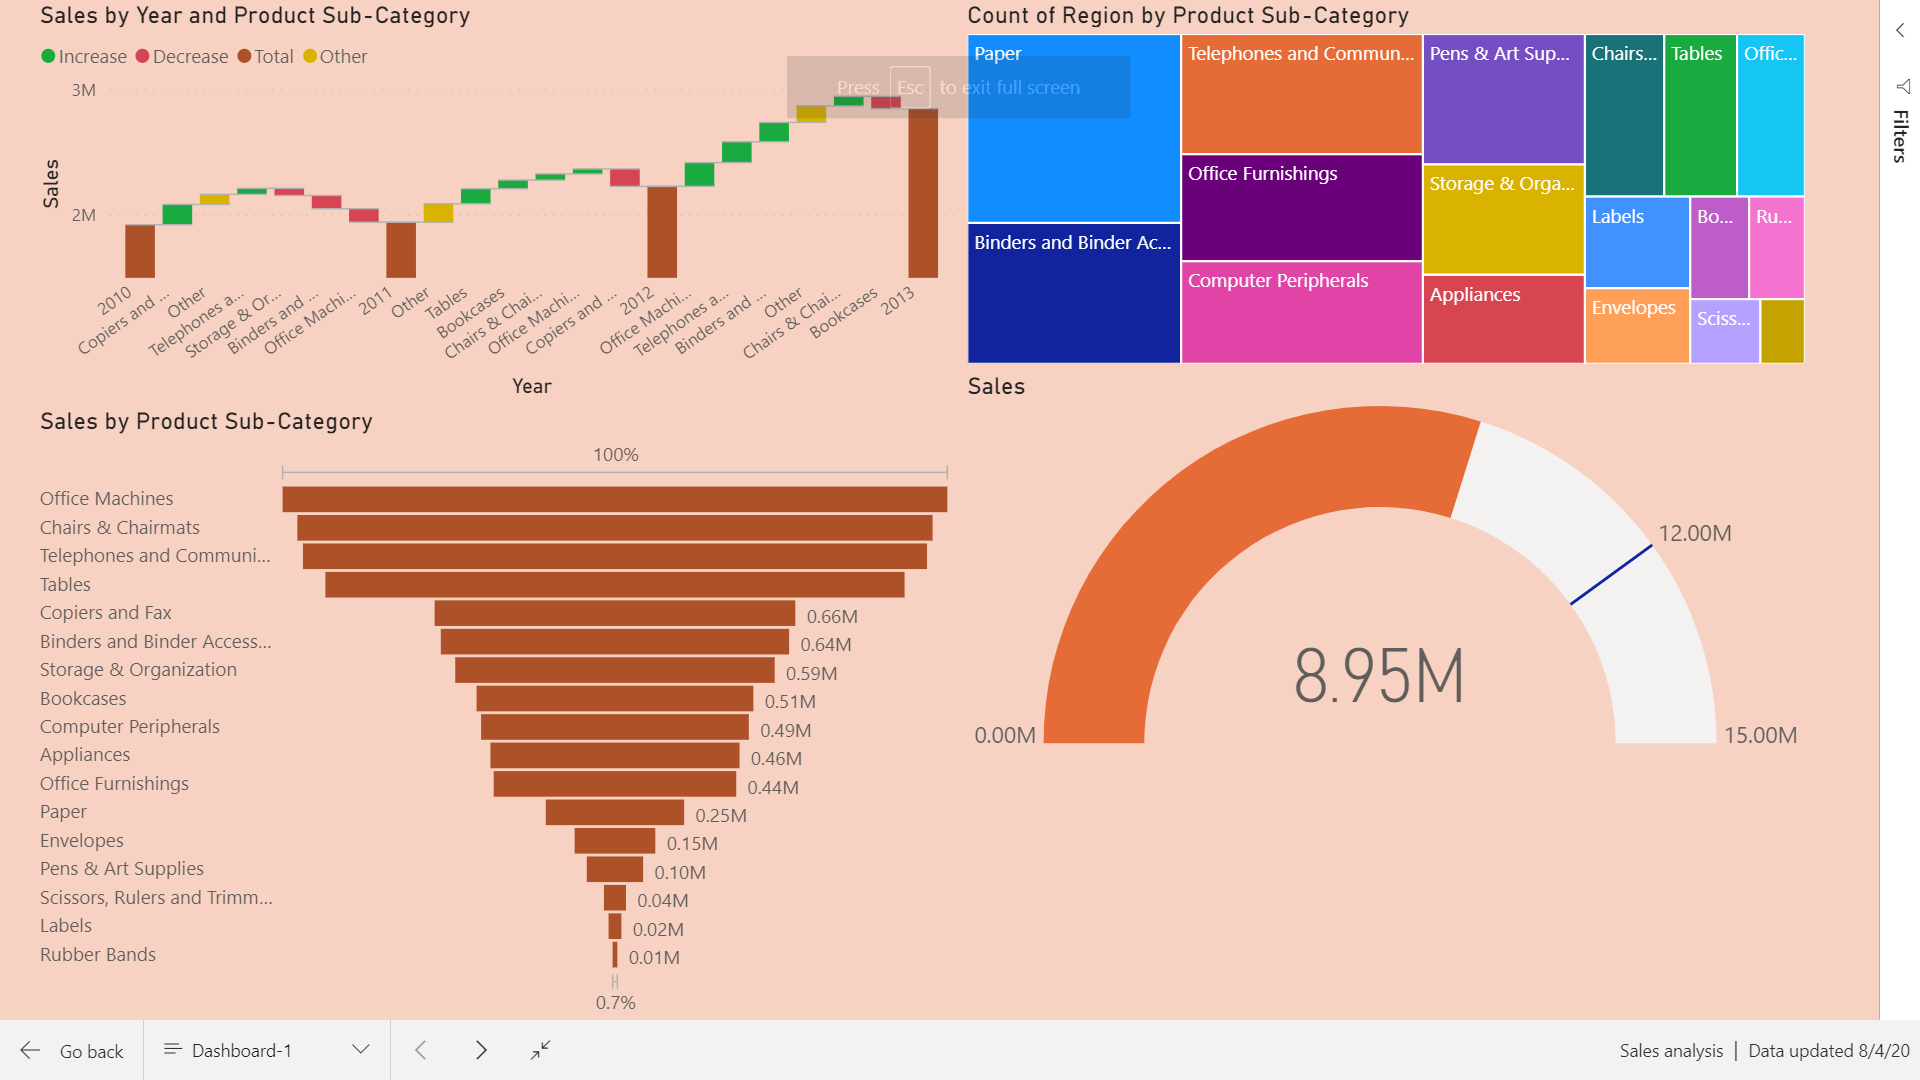

The page's visual inventory and layout, read from the dashboard file:
{"tool":"powerbi","page":{"name":"Dashboard-1","canvas":[1280,720],"ordinal":0},"visuals":[{"type":"waterfallChart","fields":{"Category":["Orders.Order Date.Variation.Date Hierarchy.Year"],"Breakdown":["Orders.Product Sub-Category"],"Y":["Sum(Orders.Sales)"]},"box":[0,0,654.5,286.1],"z":0},{"type":"gauge","fields":{"Y":["Sum(Orders.Sales)"]},"box":[654.5,261.8,601.2,272.7],"z":1000},{"type":"funnel","fields":{"Category":["Orders.Product Sub-Category"],"Y":["Sum(Orders.Sales)"]},"box":[0,286.7,655.1,433.8],"z":2000},{"type":"treemap","fields":{"Group":["Orders.Product Sub-Category"],"Values":["CountNonNull(Orders.Region)"]},"box":[655.1,0,601,261.5],"z":3000}]}

Visuals, with their boxes on the page's 1280x720 design canvas (x1, y1, x2, y2). These are canvas units, not pixel positions in the 1920x1080 screenshot, which may show the page scaled, cropped or inside an application window:
waterfallChart - Orders.Order Date.Variation.Date Hierarchy.Year x Orders.Product Sub-Category: (0,0,654,286)
gauge - Sum(Orders.Sales): (654,262,1256,534)
funnel - Orders.Product Sub-Category x Sum(Orders.Sales): (0,287,655,720)
treemap - Orders.Product Sub-Category x CountNonNull(Orders.Region): (655,0,1256,262)
